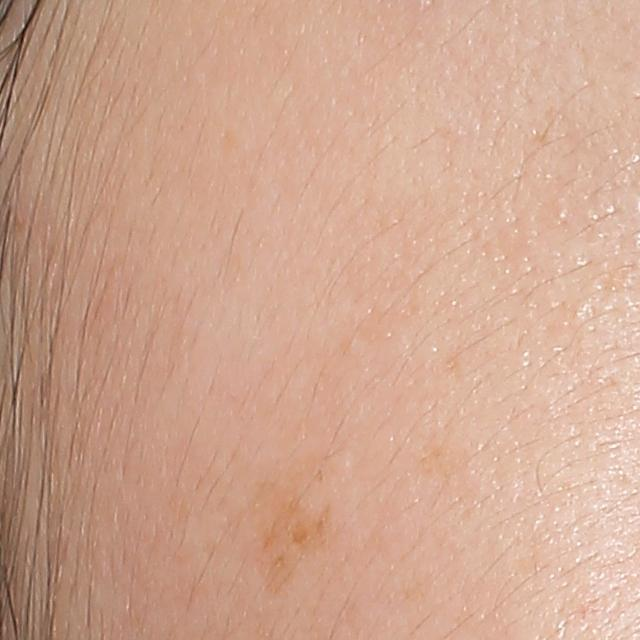melasma: (242, 455, 355, 592)
